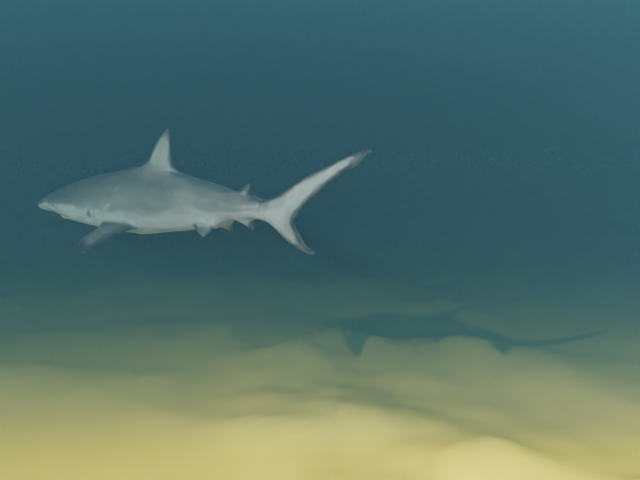Carribean Shark.001: (37, 128, 371, 254)
